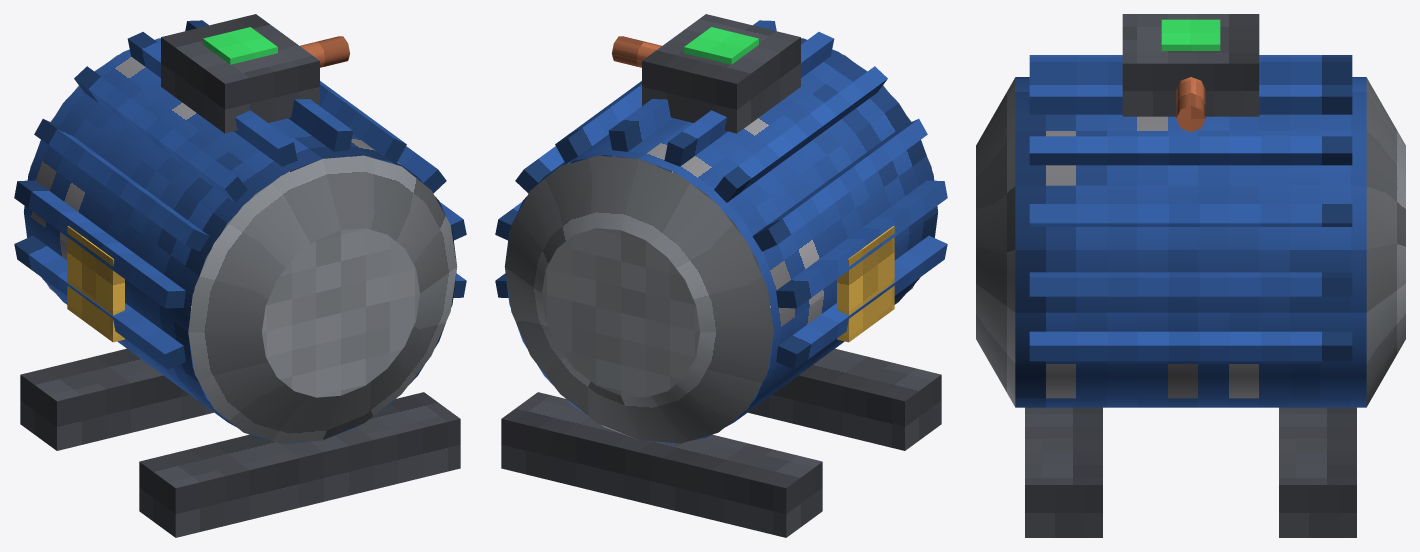
File: generator_active.obj
3 views of the same model, side by side, from view 1: azimuth 30°, elevation 25°; view 2: azimuth 150°, elevation 25°; view 3: azimuth 270°, elevation 25° (orthographic). The views are drawn at different scales.
Size of the model in its own units: 0.763 by 0.975 by 0.88.
